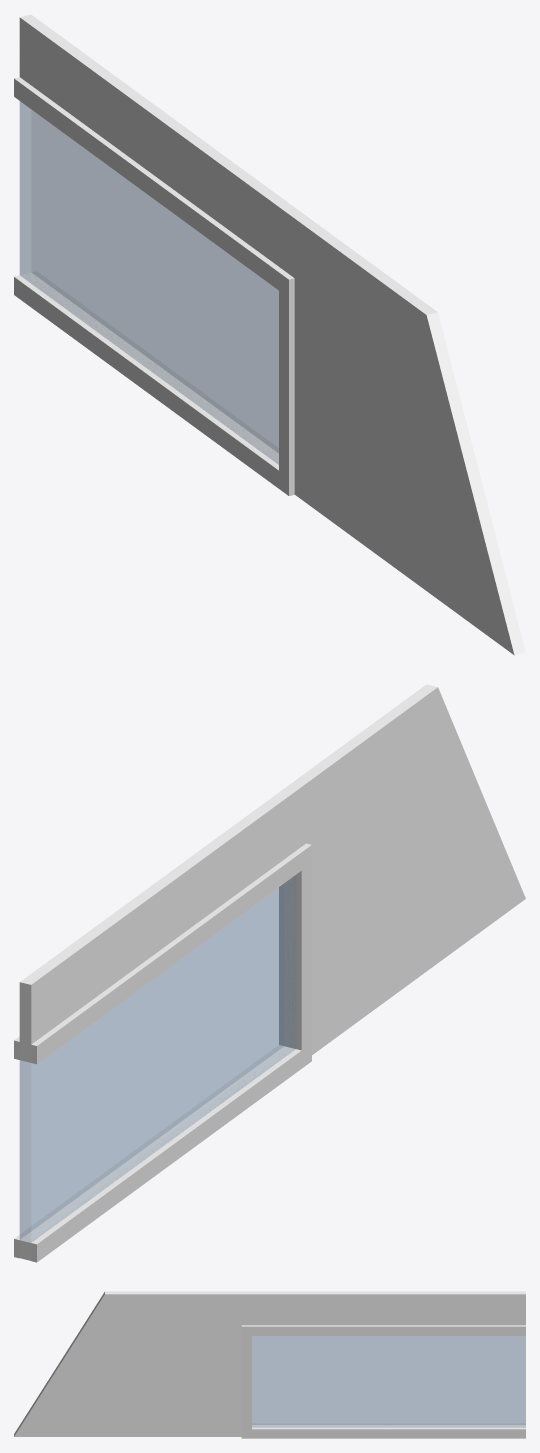
3 renders of one model, top to bottom at view 1: azimuth 30°, elevation 25°; view 2: azimuth 150°, elevation 25°; view 3: azimuth 270°, elevation 25°, orthographic. The views are drawn at different scales.
Parts seen in each view (by area): view 1: 0_3_1_2_2_2_2_3_2; view 2: 0_3_1_2_2_2_2_3_2; view 3: 0_3_1_2_2_2_2_3_2.
Boxes of the visible parts, box(x1,y1,x2,y2) form: 0_3_1_2_2_2_2_3_2: box(14, 14, 525, 655); 0_3_1_2_2_2_2_3_2: box(14, 684, 525, 1262); 0_3_1_2_2_2_2_3_2: box(14, 1291, 525, 1438).
Bounding box in the file's own units: 0.1 × 1.15 × 3.74.
